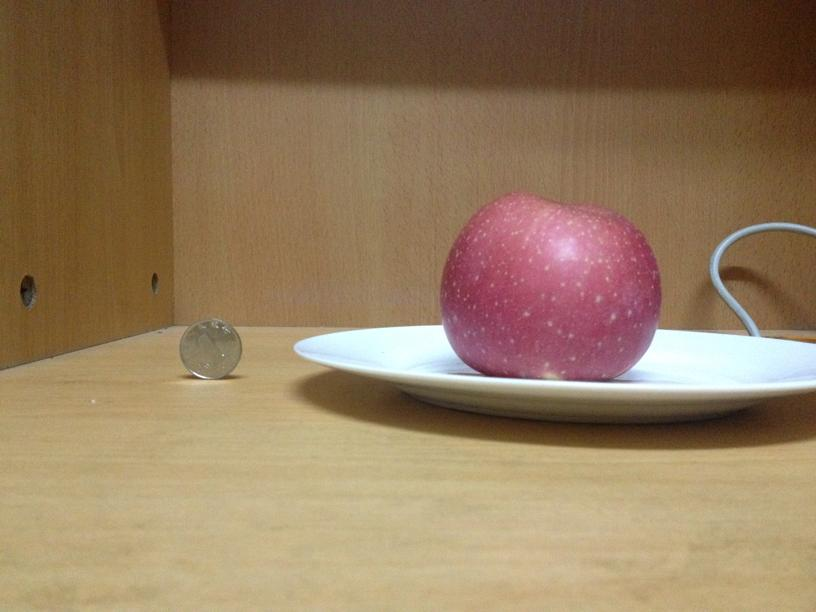apple: (441, 190, 662, 381)
coin: (179, 317, 243, 380)
